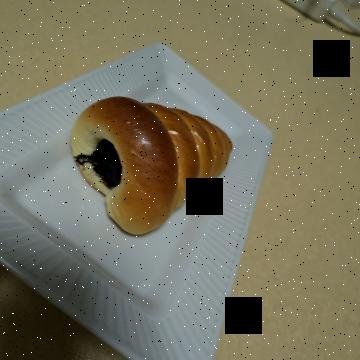cream horn: (87, 112, 270, 296)
